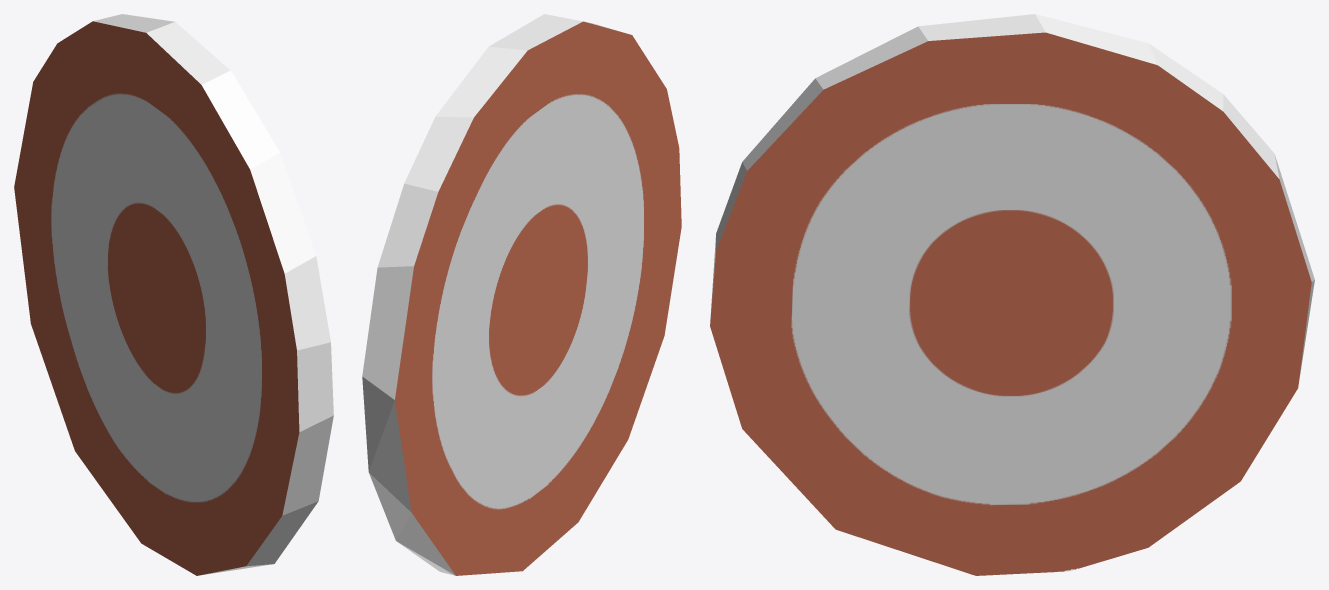
The model's file is Target.fbx.
3 renders of one model, left to right at view 1: azimuth 30°, elevation 25°; view 2: azimuth 150°, elevation 25°; view 3: azimuth 270°, elevation 25°, orthographic. The views are drawn at different scales.
Parts seen in each view (by area): view 1: Cylinder; view 2: Cylinder; view 3: Cylinder.
Boxes of the visible parts, x1=… form: Cylinder: x1=14, y1=14, x2=333, y2=575; Cylinder: x1=362, y1=14, x2=681, y2=575; Cylinder: x1=710, y1=14, x2=1314, y2=575.
Bounding box in the file's own units: 11.89 × 172 × 173.
